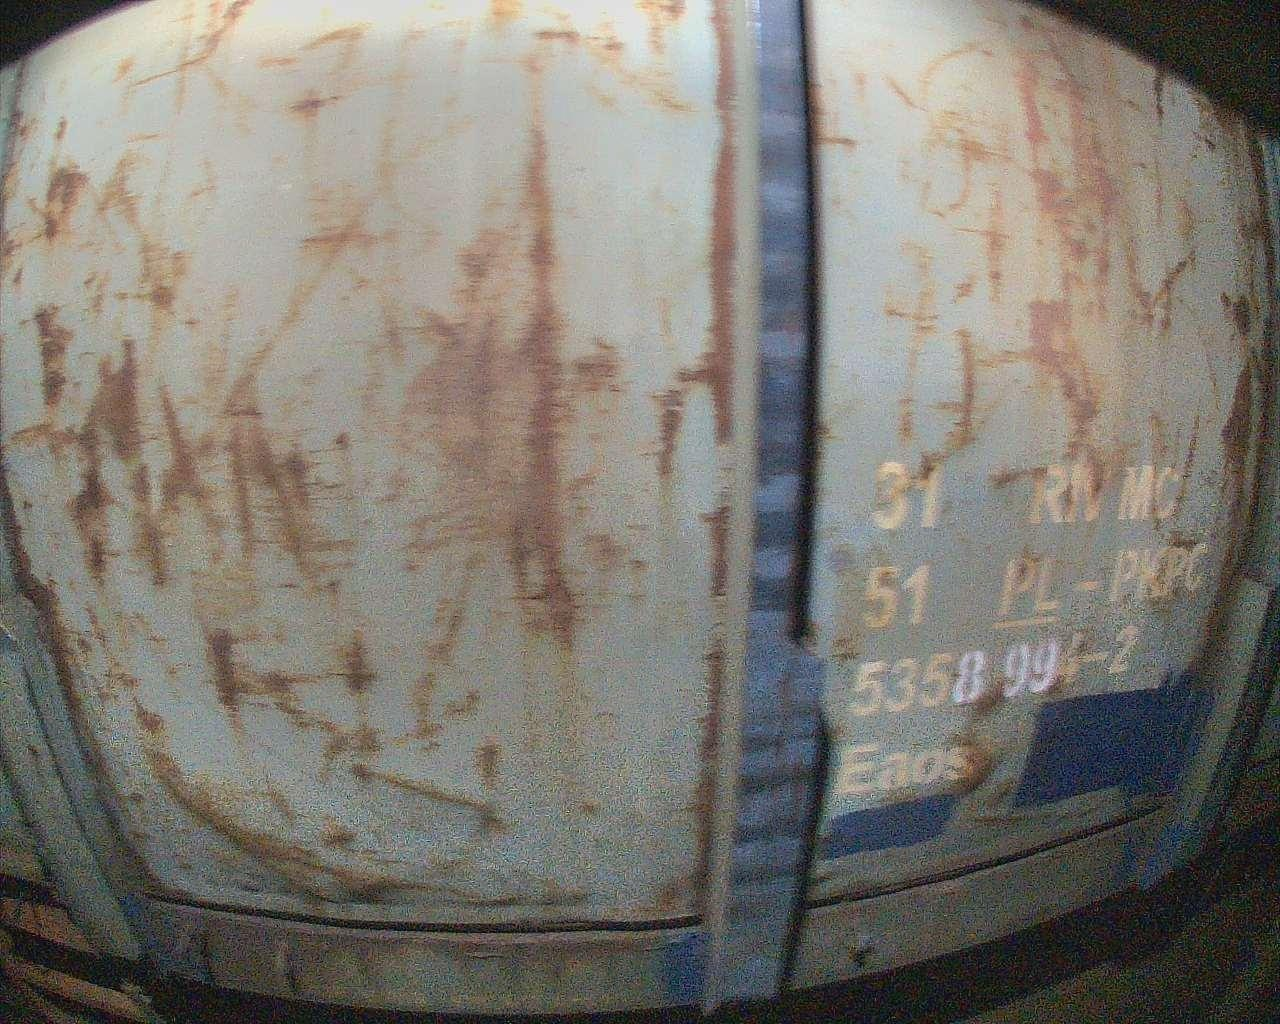UIC: (831, 452, 1223, 807)
